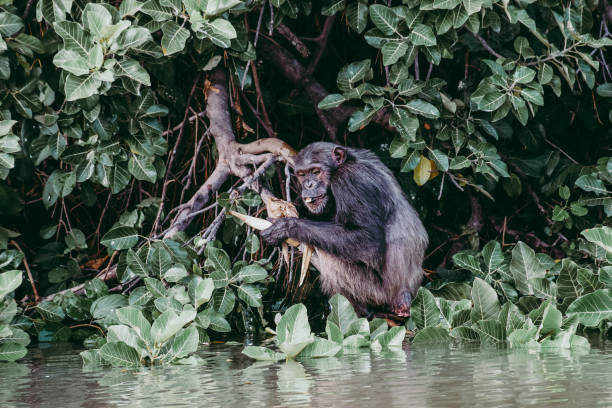chimpanzee: (293, 139, 359, 225)
